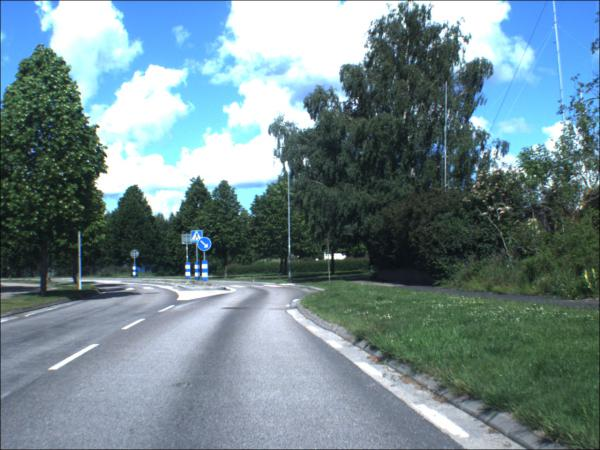PASS_RIGHT_SIDE: (199, 238, 214, 253)
PEDESTRIAN_CROSSING: (192, 232, 205, 245)
